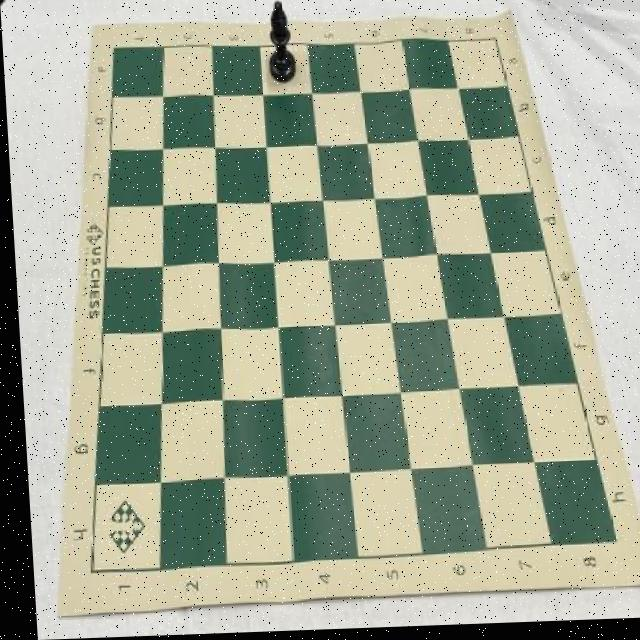bishop: (265, 2, 297, 86)
